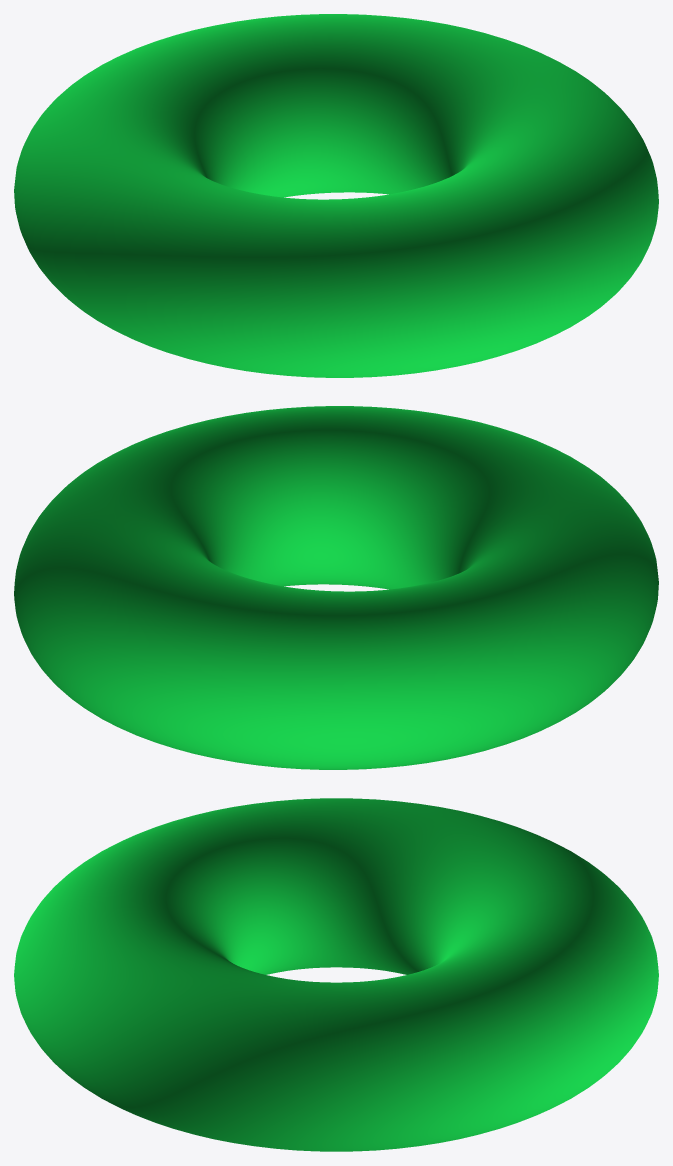
The model's file is Toroide2.obj.
3 views of the same model, one above another, from view 1: azimuth 30°, elevation 25°; view 2: azimuth 150°, elevation 25°; view 3: azimuth 270°, elevation 25° (orthographic). The views are drawn at different scales.
Visible parts, largest first — view 1: mesh_id38; view 2: mesh_id38; view 3: mesh_id38.
Part boxes in pixels (bbox=[...]): mesh_id38: bbox=[14, 14, 658, 377]; mesh_id38: bbox=[14, 406, 658, 769]; mesh_id38: bbox=[14, 798, 658, 1151].
Size of the model in its own units: 0.4488 by 0.1188 by 0.4642.
Materials: 1 (1 with a texture image).
